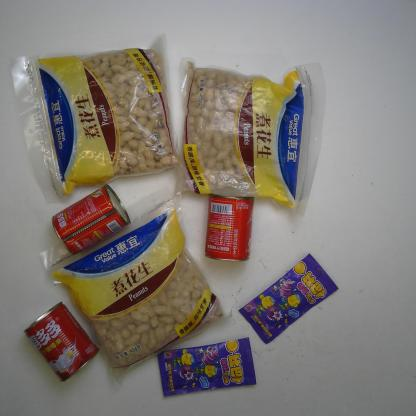Candy: (237, 252, 339, 345), (156, 335, 256, 398)
Canned Food: (23, 301, 100, 383), (50, 183, 132, 256), (204, 191, 256, 262)
Dried Food: (37, 186, 233, 388), (7, 33, 180, 204), (170, 57, 328, 220)
